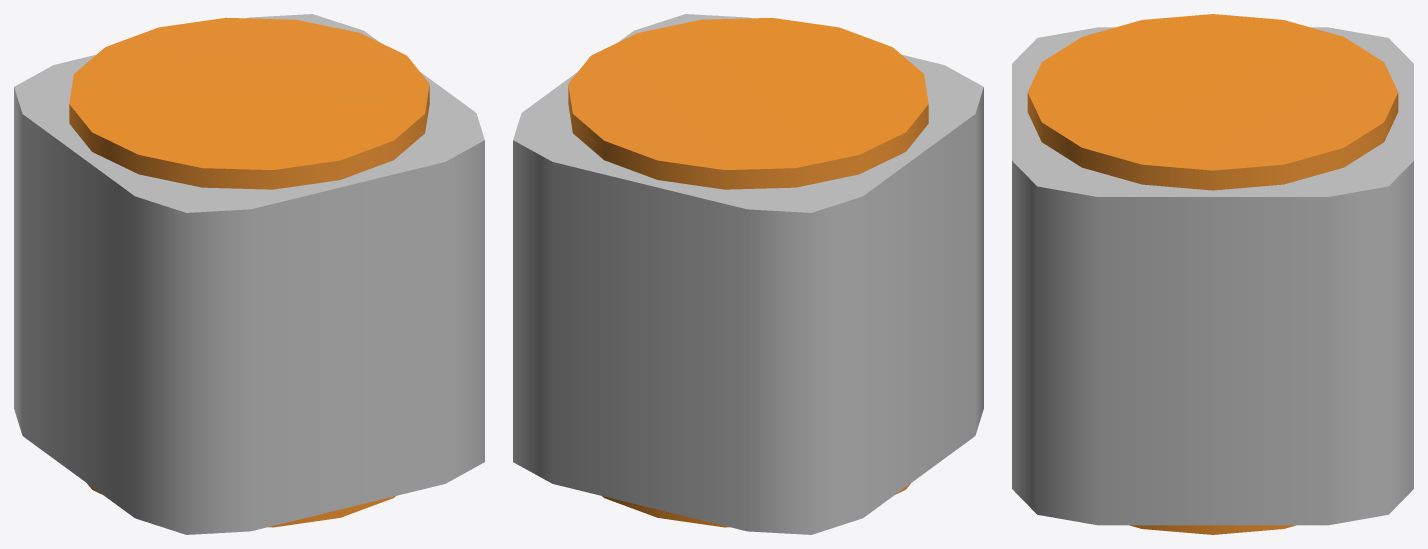
The model's file is Fuel3.fbx.
The picture shows the model from 3 angles, left to right: view 1: azimuth 30°, elevation 25°; view 2: azimuth 150°, elevation 25°; view 3: azimuth 270°, elevation 25°; orthographic projection.
Visible parts, largest first — view 1: Block 1x1.003; view 2: Block 1x1.003; view 3: Block 1x1.003.
Part boxes in pixels (box(x1,y1,x2,y2)): Block 1x1.003: box(14, 14, 484, 534); Block 1x1.003: box(513, 14, 983, 534); Block 1x1.003: box(1012, 14, 1413, 534).
Bounding box in the file's own units: 100 × 100 × 100.
